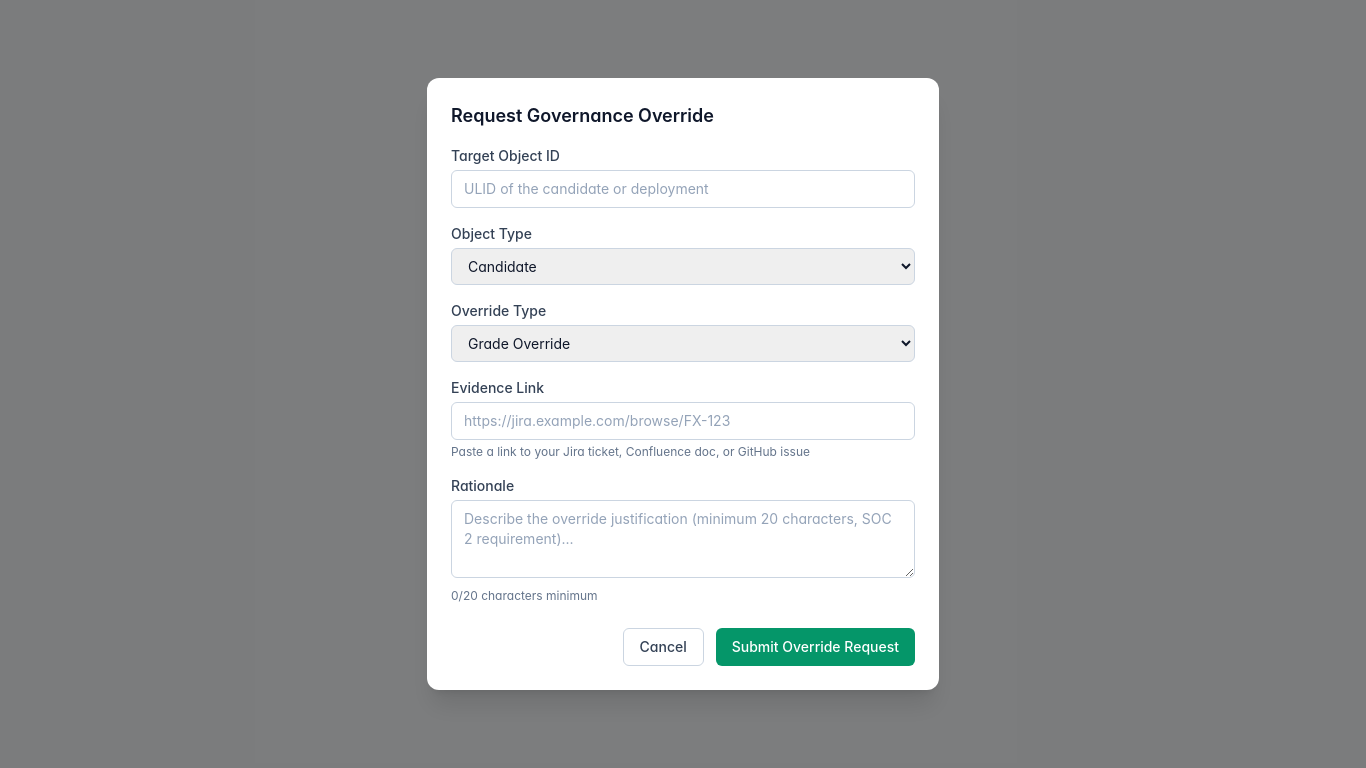
OverrideRequestForm › shows error when evidence_link is empty on submit
Note: Fill minimum fields but leave evidence_link empty.
Type "01HCANDIDATE0000000001" into the field with test id "override-object-id-input" at coordinates (683, 189), box 451,170 -> 915,208
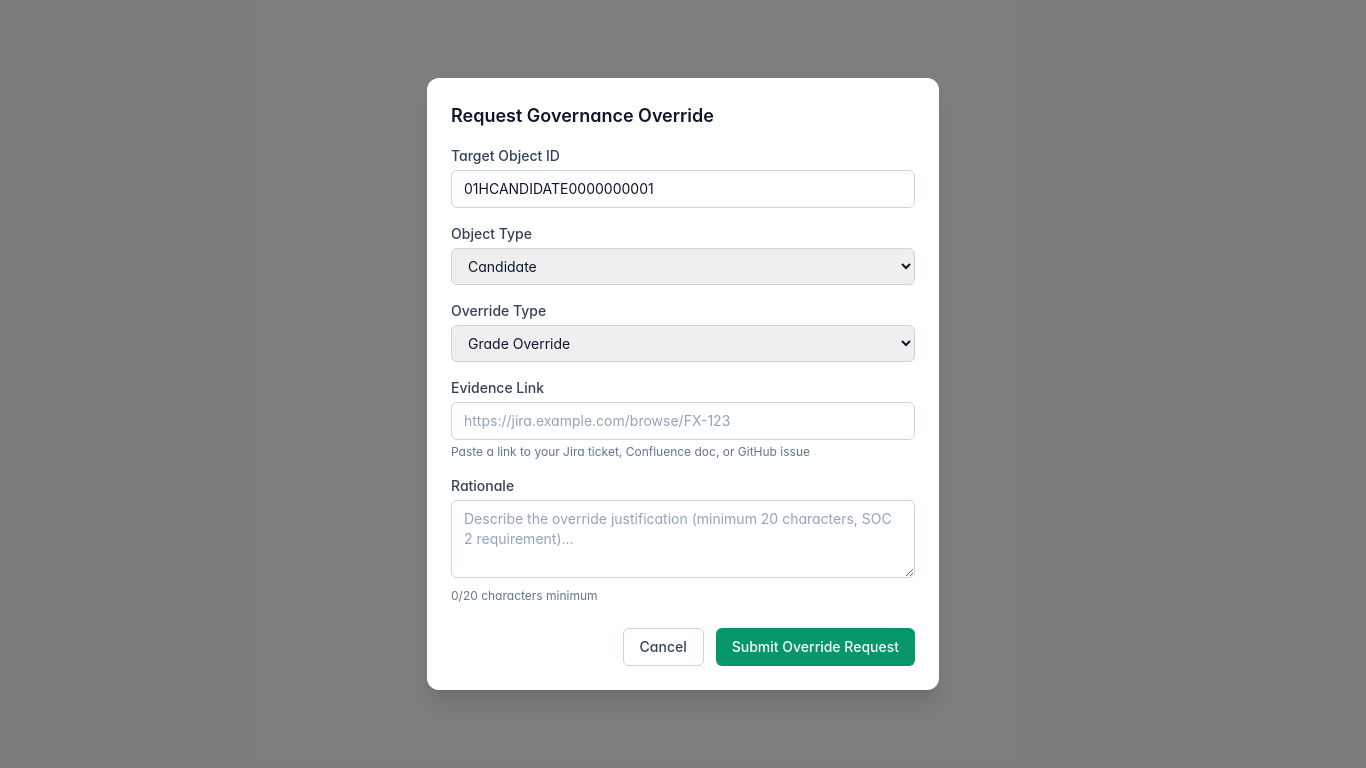
Replace the text in the text box with test id "override-rationale-input" with "Extended backtest over 3-year window justifies grade uplift." at coordinates (683, 539), box 451,500 -> 915,578
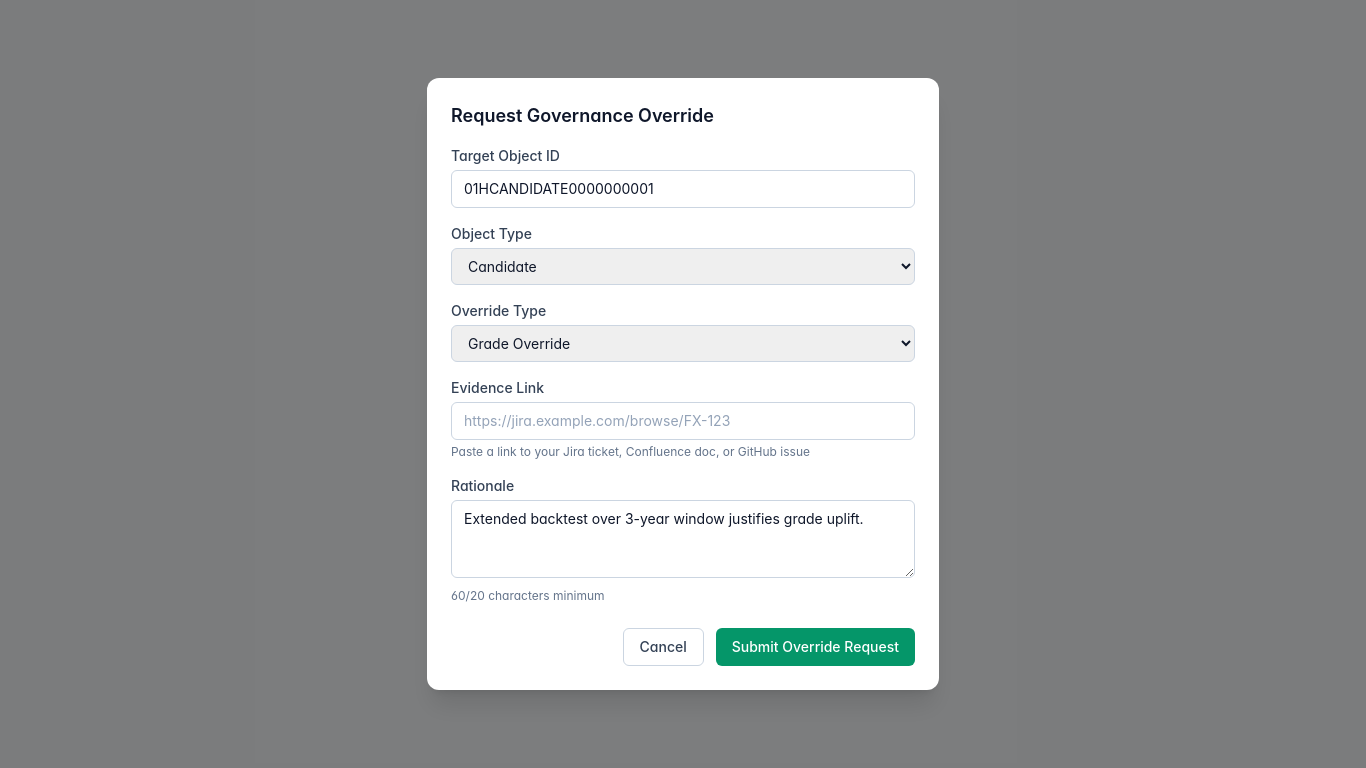
Click the button with test id "override-form-submit" at coordinates (815, 647), box 716,628 -> 915,666
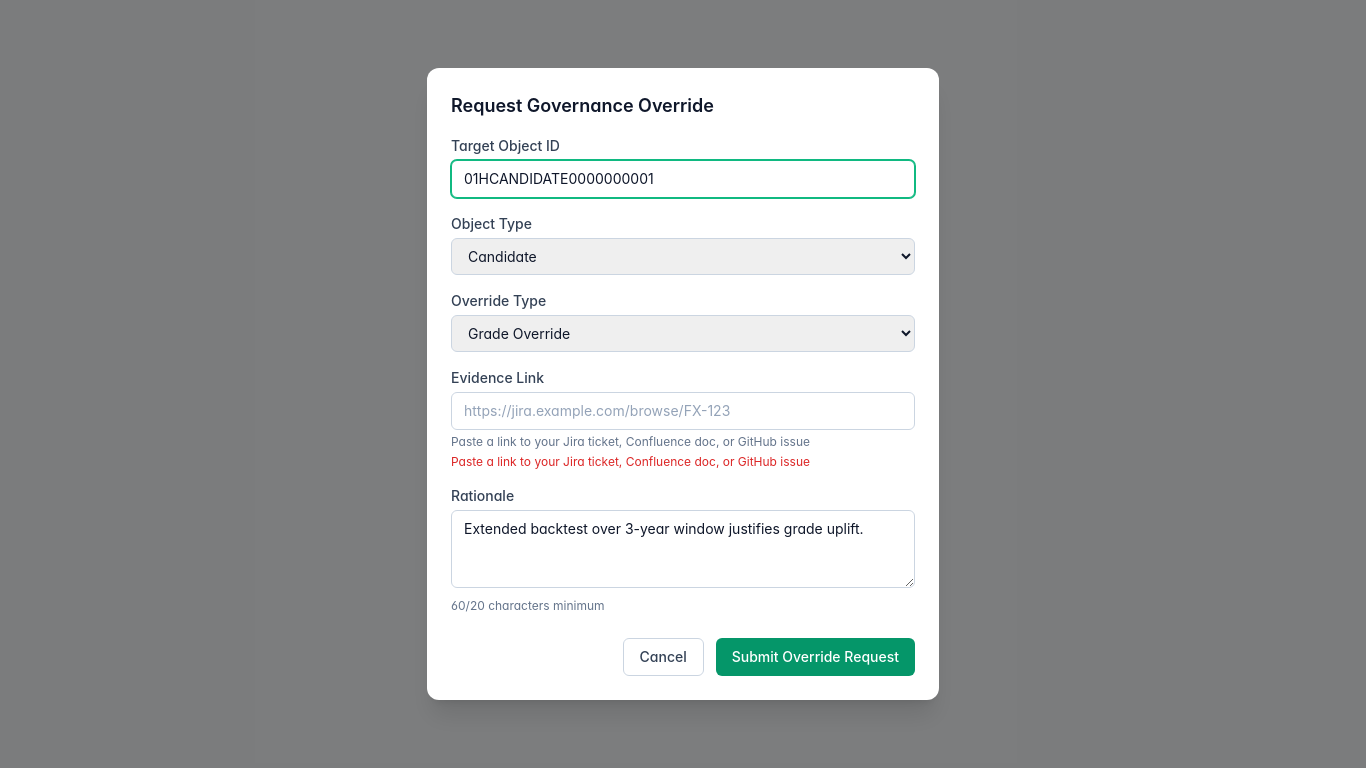
Expected: the text with test id "evidence-link-error" is shown, 451,454 -> 810,469
